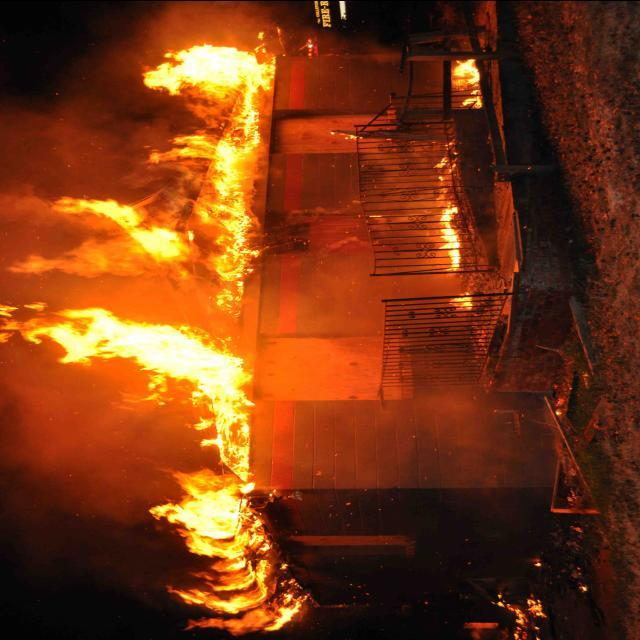Fire: (9, 28, 330, 632)
